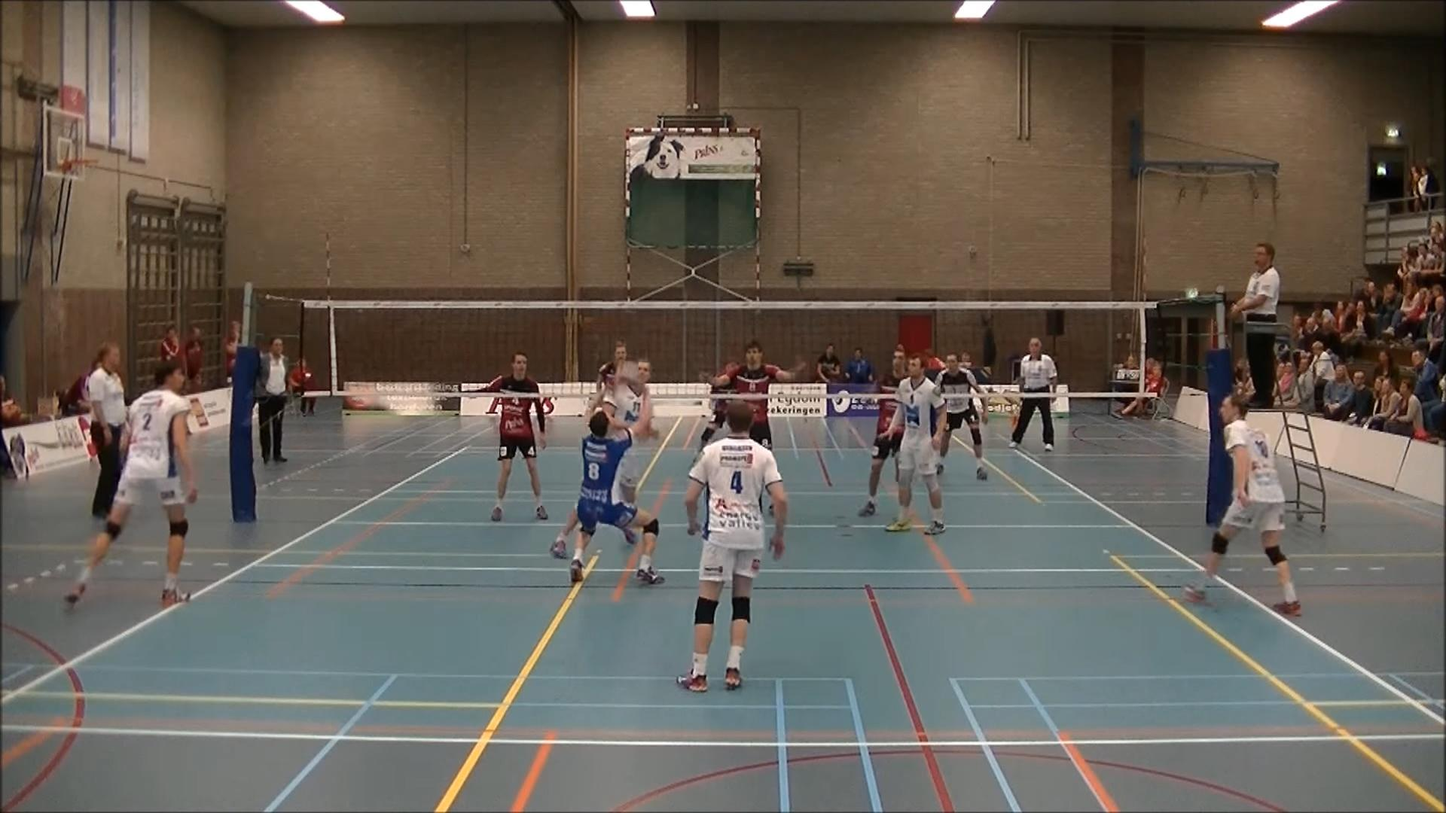Player: (66, 361, 197, 607), (678, 401, 787, 692), (1184, 394, 1300, 616), (570, 411, 663, 584), (484, 352, 548, 521), (886, 354, 946, 534), (711, 340, 804, 449), (859, 349, 907, 516), (935, 353, 987, 480), (601, 359, 651, 438), (700, 361, 738, 452)
Receive: (547, 372, 654, 585)
ball: (610, 352, 643, 387)
